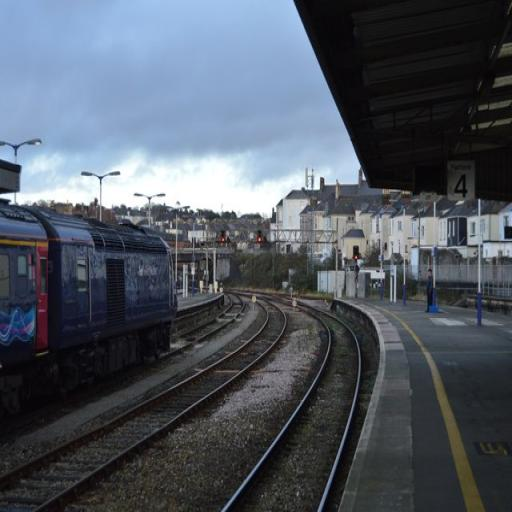platform_edge: (323, 292, 491, 512)
